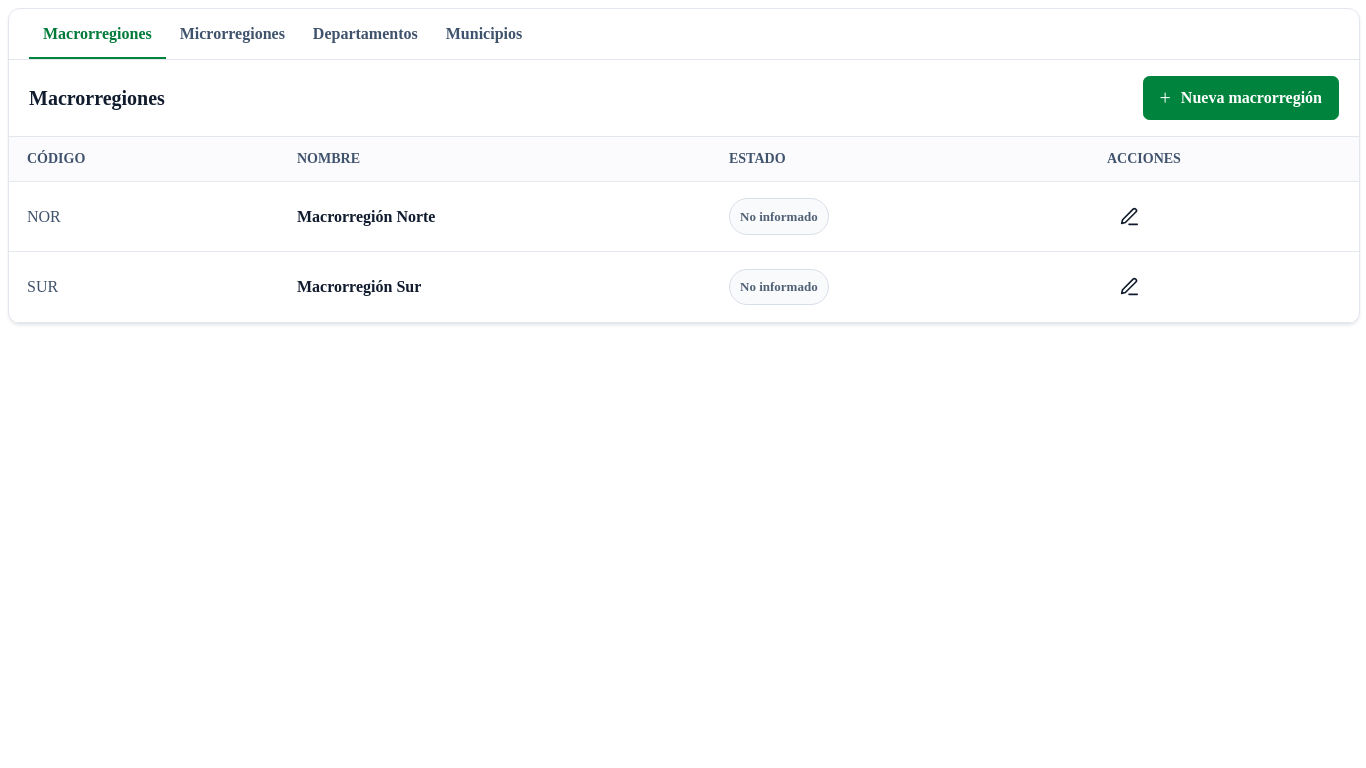
Test case: GeographyHierarchy › rechaza un padre obsoleto que ya no está entre las opciones disponibles
Click the button "Macrorregión Norte" at (366, 216), box [297,202,436,232]
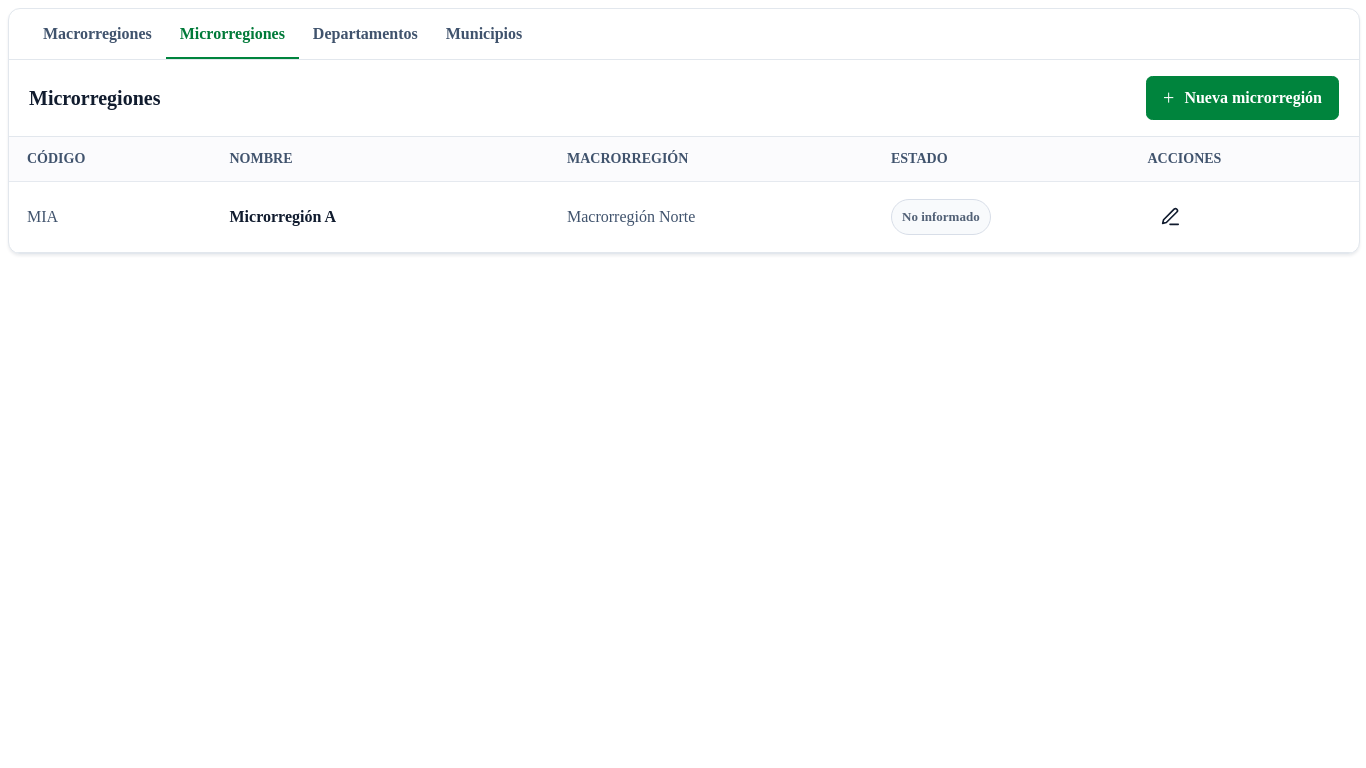
Click the button "+ Nueva microrregión" at (1243, 98), box [1146,76,1339,120]
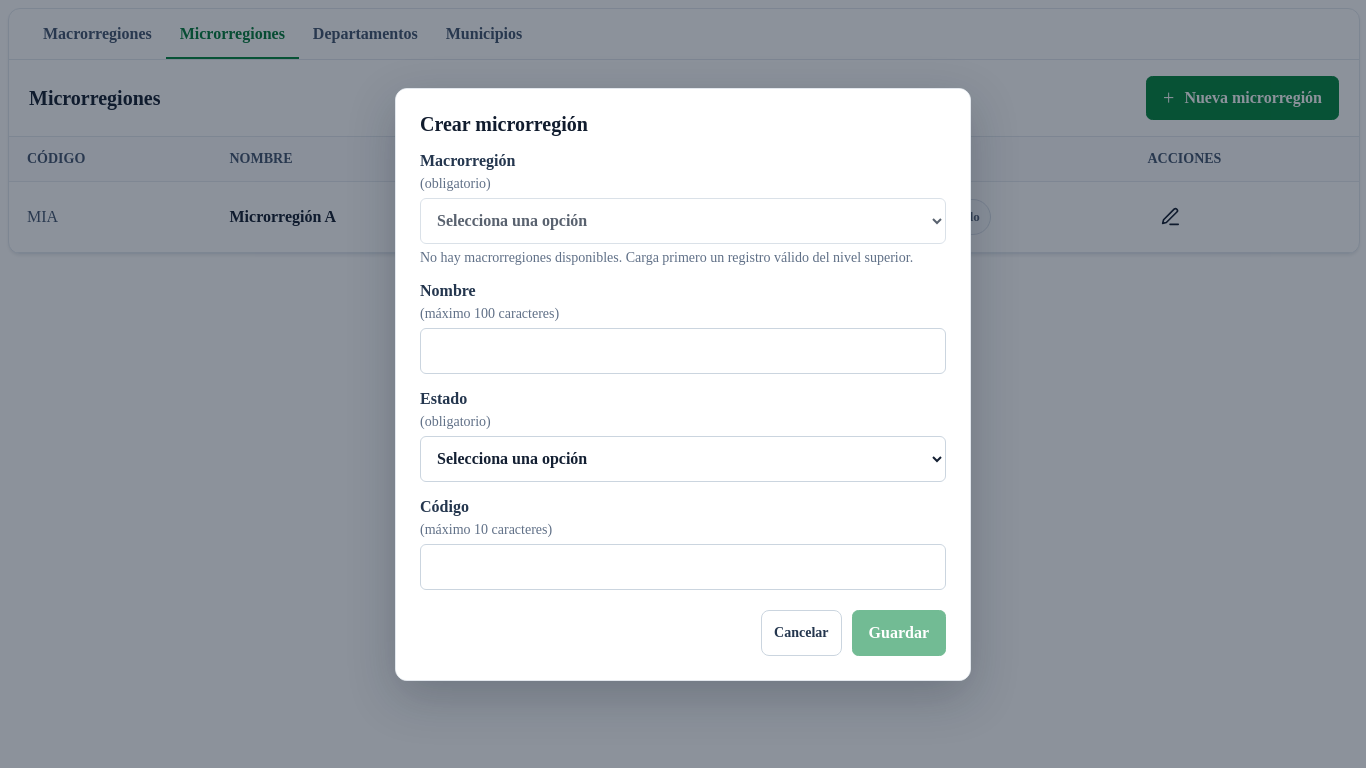
Type "Centro" into the field labelled "Nombre (máximo 100 caracteres)" at (683, 350), box [420,328,946,374]
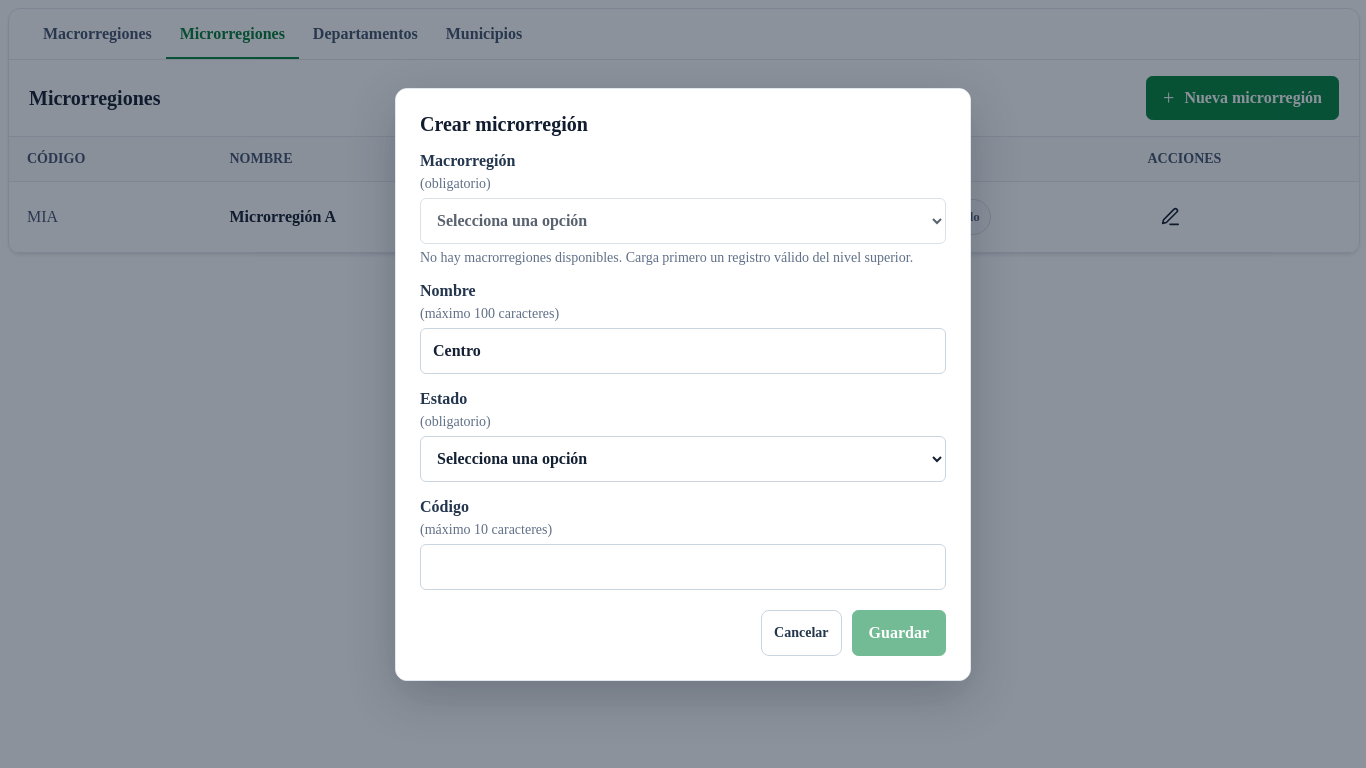
Type "CEN" into the field labelled "Código (máximo 10 caracteres)" at (683, 566), box [420,544,946,590]
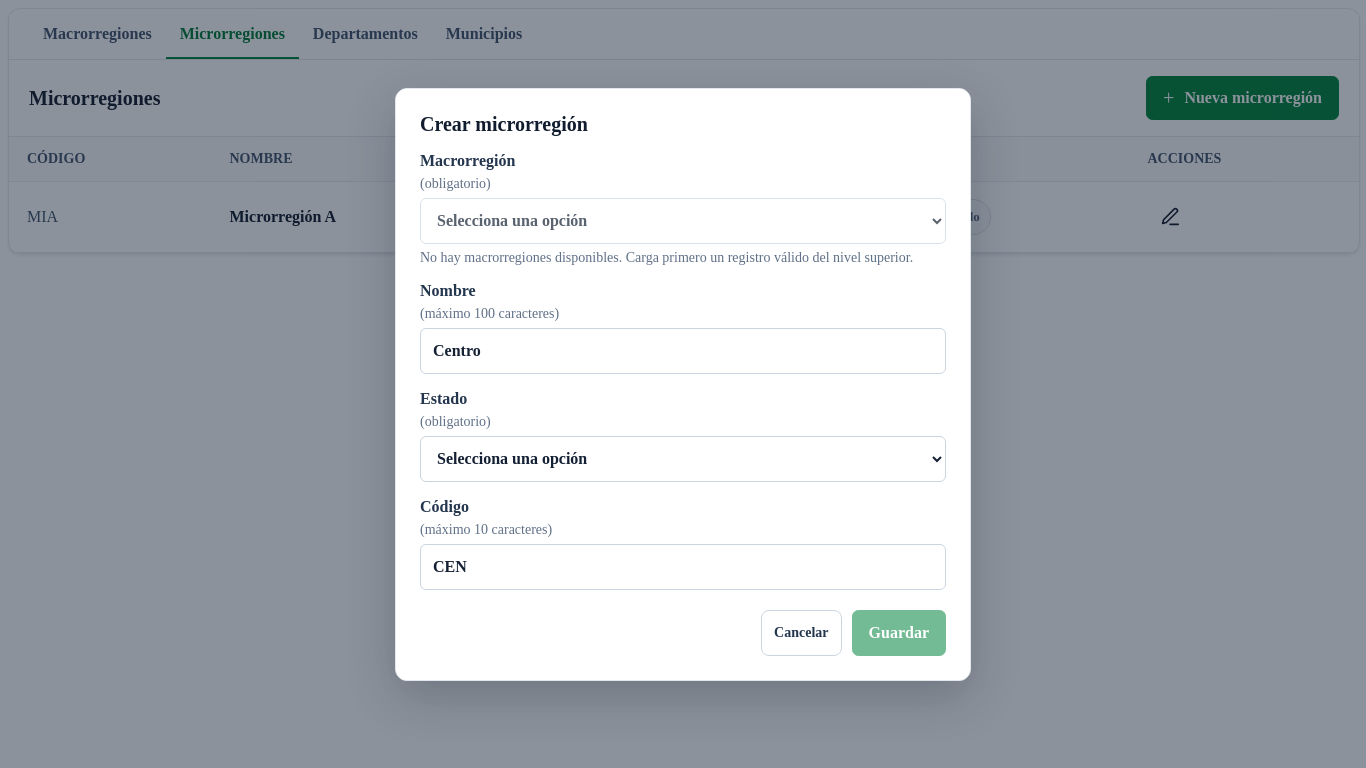
Submit the form named "Crear Microrregiones", box [396,88,970,680]
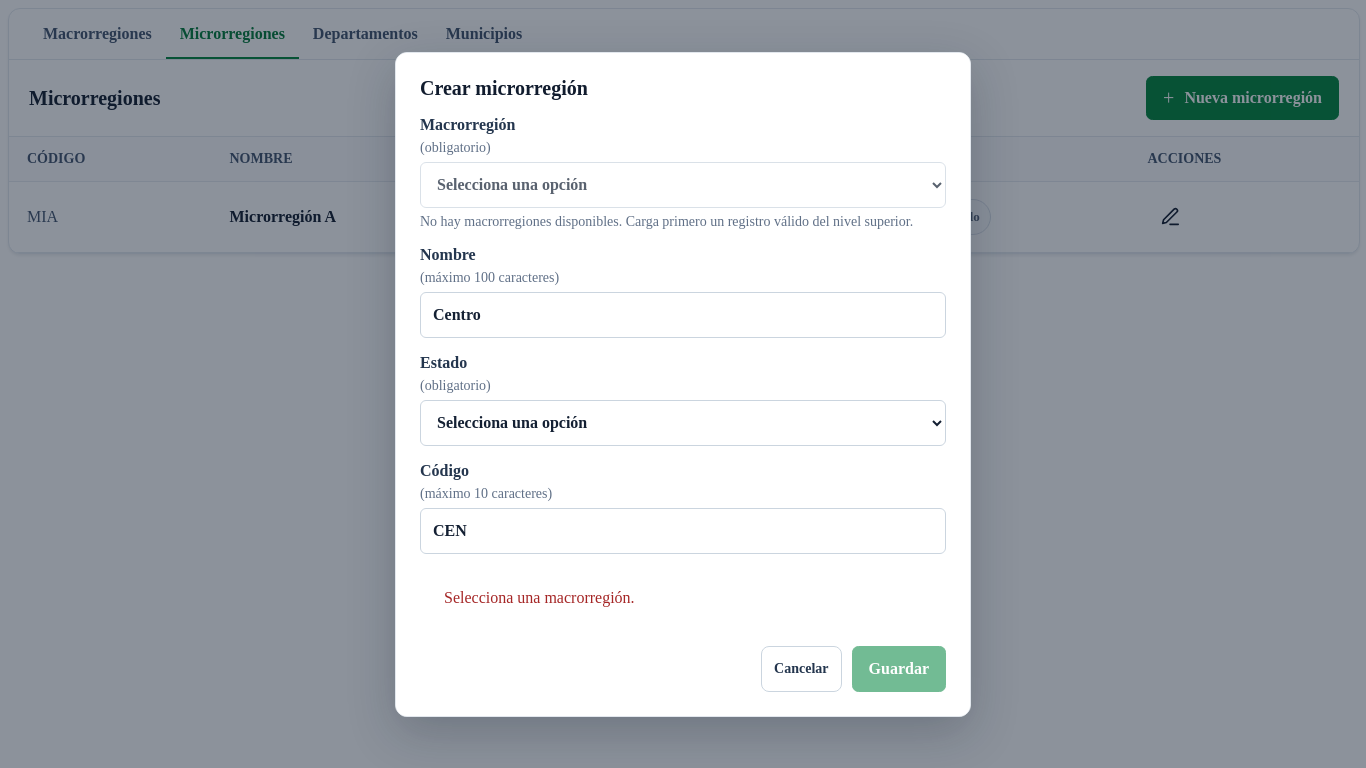
Expected: the message "Selecciona una macrorregión." is shown, [444,588,635,606]
